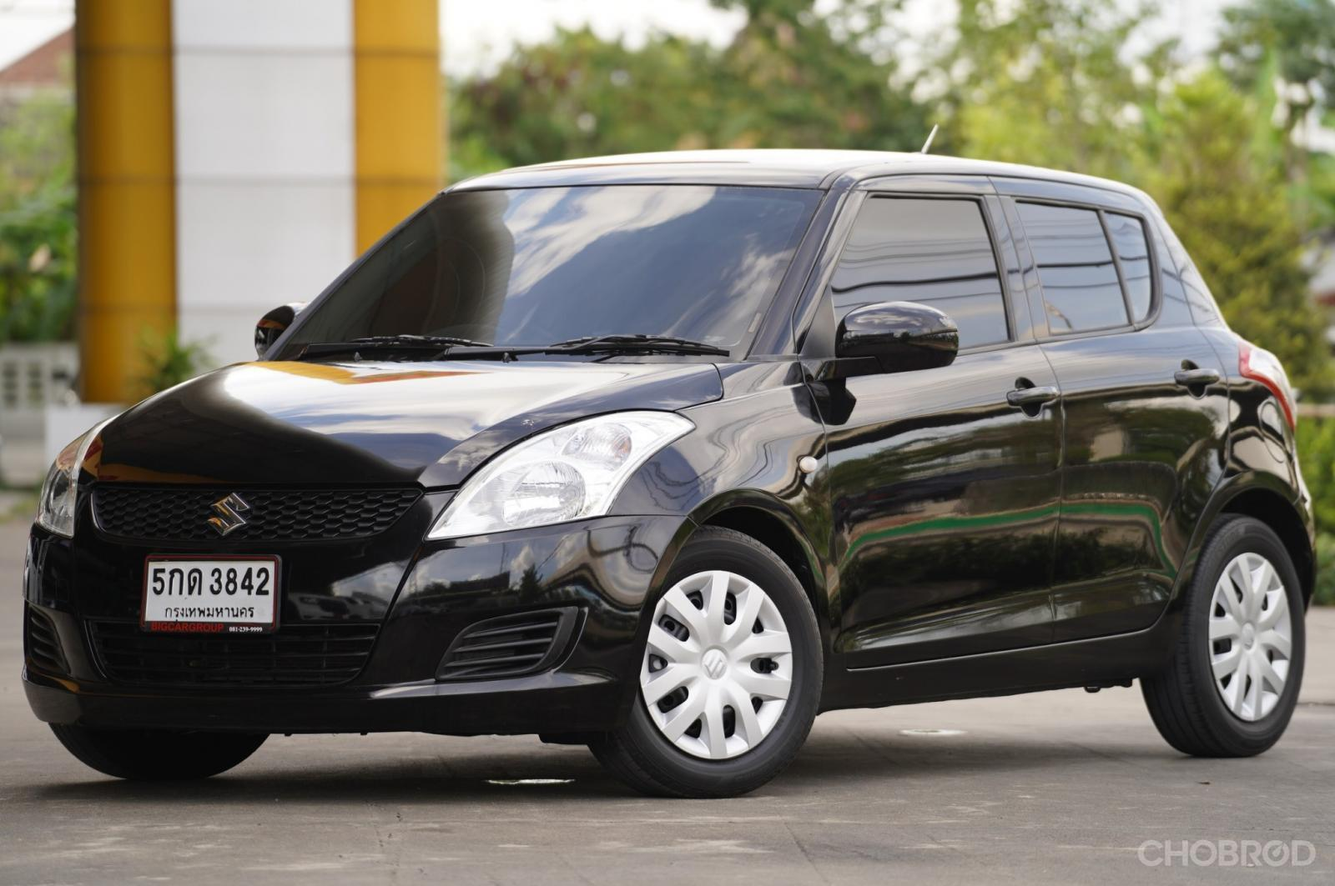license-plate: (140, 553, 278, 639)
